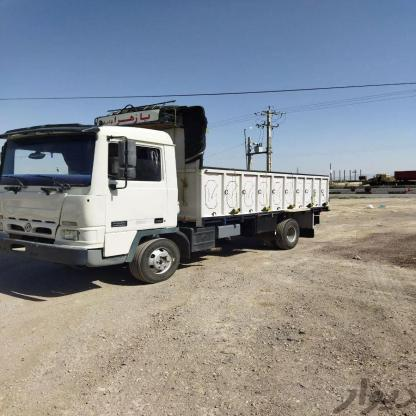Truck: (0, 105, 323, 289)
